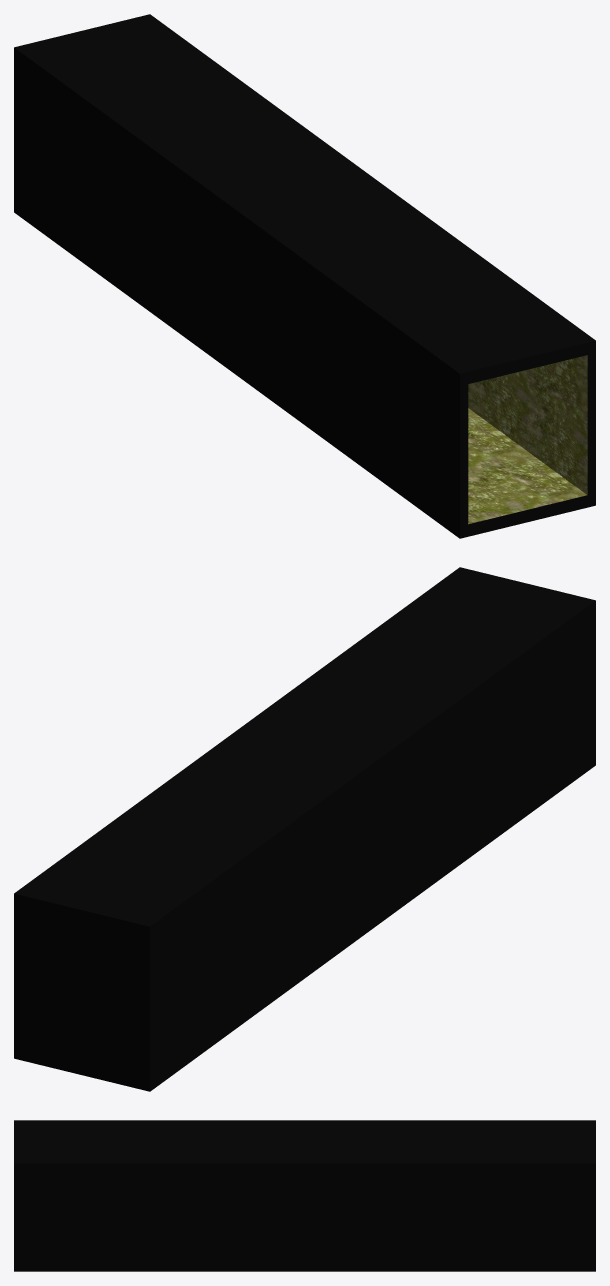
The model's file is Tunnel.fbx.
The picture shows the model from 3 angles, top to bottom: view 1: azimuth 30°, elevation 25°; view 2: azimuth 150°, elevation 25°; view 3: azimuth 270°, elevation 25°; orthographic projection. The views are drawn at different scales.
Parts seen in each view (by area): view 1: Tunnel; view 2: Tunnel; view 3: Tunnel.
Boxes of the visible parts, x1=… form: Tunnel: x1=14, y1=14, x2=595, y2=538; Tunnel: x1=14, y1=567, x2=595, y2=1091; Tunnel: x1=14, y1=1120, x2=595, y2=1271.
Size of the model in its own units: 229 by 265 by 1297.
2 materials, 1 textured.
